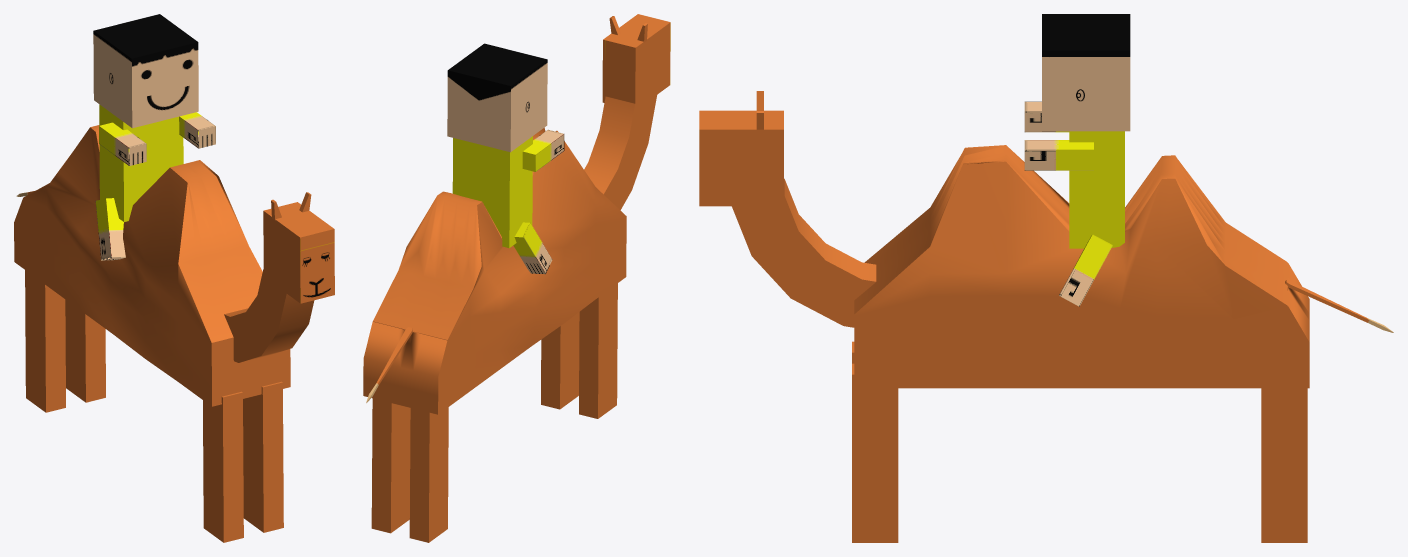
The model's file is Rakuda.FBX.
The picture shows the model from 3 angles, left to right: view 1: azimuth 30°, elevation 25°; view 2: azimuth 150°, elevation 25°; view 3: azimuth 270°, elevation 25°; orthographic projection. The views are drawn at different scales.
Visible parts, largest first — view 1: Box001, Box013, Box002, Box005, Box004, Box006, Box014, Tube001, Box007, Box020, Box016, Box019; view 2: Box001, Box013, Box014, Box002, Tube001, Box006, Box007, Box005, Box004, Box020, Box016, Box008; view 3: Box001, Box013, Tube001, Box002, Box004, Box007, Box014, Box019, Box021.
Part boxes in pixels (<box>): Box001: <box>14,125,290,406</box>; Box013: <box>93,14,198,128</box>; Box002: <box>263,202,334,303</box>; Box005: <box>203,391,243,542</box>; Box004: <box>243,381,283,532</box>; Box006: <box>25,270,65,412</box>; Box014: <box>99,104,183,221</box>; Tube001: <box>224,269,314,362</box>; Box007: <box>65,299,105,402</box>; Box020: <box>95,198,125,260</box>; Box016: <box>99,122,146,165</box>; Box019: <box>179,112,215,148</box>; Box001: <box>363,127,626,414</box>; Box013: <box>447,43,547,152</box>; Box014: <box>452,136,532,248</box>; Box002: <box>602,14,670,103</box>; Tube001: <box>584,95,656,209</box>; Box006: <box>409,407,448,542</box>; Box007: <box>371,398,410,533</box>; Box005: <box>579,283,617,418</box>; Box004: <box>541,312,579,409</box>; Box020: <box>513,222,552,274</box>; Box016: <box>522,129,564,171</box>; Box008: <box>376,327,412,384</box>; Box001: <box>854,145,1309,388</box>; Box013: <box>1042,14,1130,131</box>; Tube001: <box>732,178,876,327</box>; Box002: <box>699,110,783,206</box>; Box004: <box>852,363,898,542</box>; Box007: <box>1261,388,1307,542</box>; Box014: <box>1069,131,1124,248</box>; Box019: <box>1024,140,1093,170</box>; Box021: <box>1059,234,1112,306</box>.
Size of the model in its own units: 1.22 by 4.52 by 5.8.
Materials: 7 (7 with a texture image).
